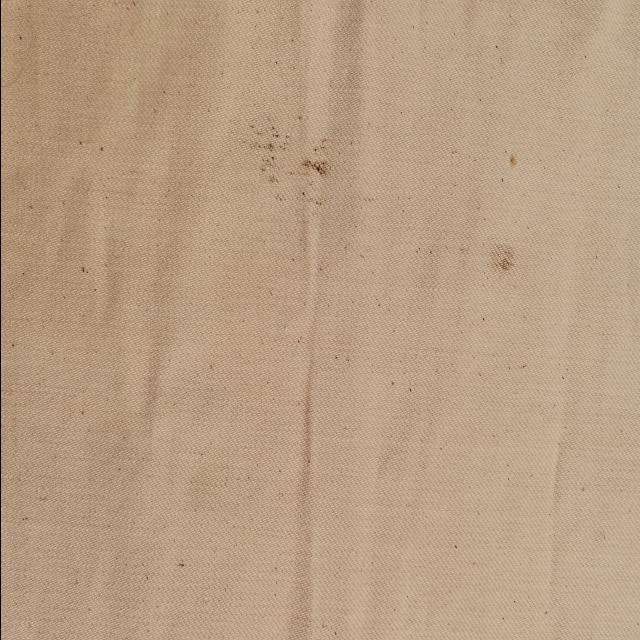taaaches: (242, 95, 330, 227), (474, 232, 518, 284), (502, 149, 520, 179)
